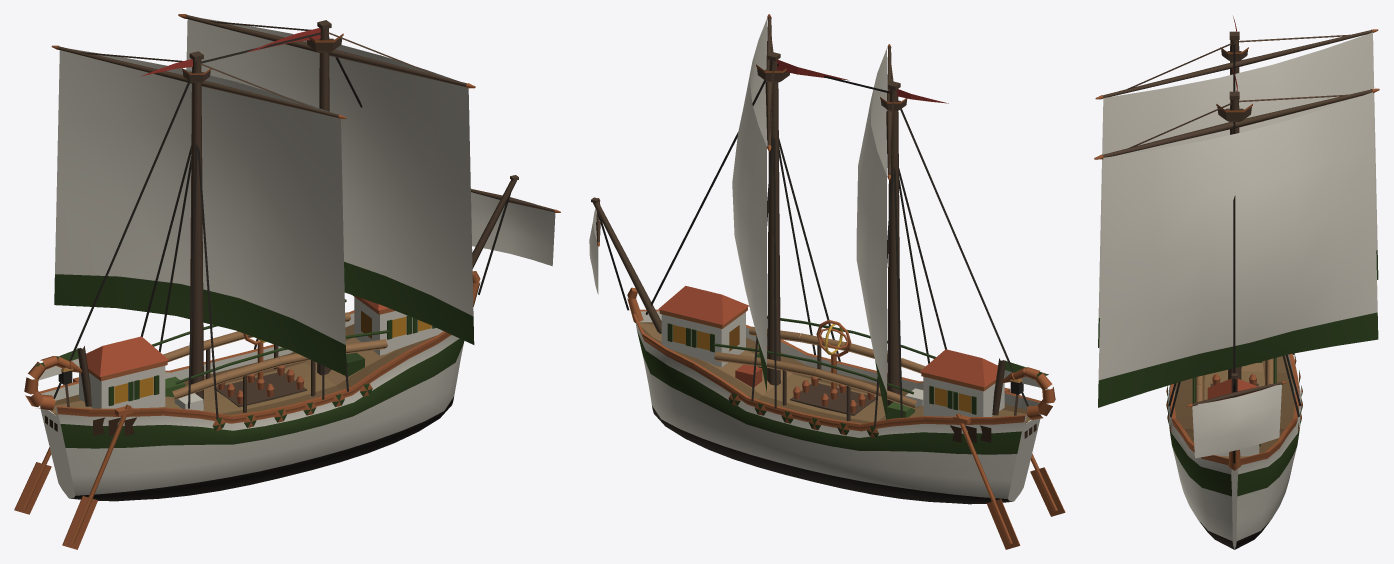
File: titan_usdg.glb
3 views of the same model, side by side, from view 1: azimuth 30°, elevation 25°; view 2: azimuth 150°, elevation 25°; view 3: azimuth 270°, elevation 25° (orthographic). The views are drawn at different scales.
Parts seen in each view (by area): view 1: sail_extra, sail_main, hull, deck, mast, yards, rigging, stern_windows, flag; view 2: hull, deck, mast, sail_main, sail_extra, rigging, stern_windows, yards, flag; view 3: sail_main, sail_extra, hull, yards, deck, mast, rigging.
Part boxes in pixels (x1,y1,x2,y2): sail_extra: (54,49,346,376); sail_main: (186,18,555,344); hull: (24,271,480,501); deck: (14,295,443,549); mast: (77,20,518,406); yards: (51,14,560,212); rigging: (53,32,510,418); stern_windows: (45,311,431,436); flag: (35,28,320,380); hull: (627,287,1055,504); deck: (658,285,1065,549); mast: (591,52,1006,415); sail_main: (589,19,766,392); sail_extra: (856,48,886,421); rigging: (597,64,1028,426); stern_windows: (673,325,1036,442); yards: (596,14,894,246); flag: (777,60,1048,389); sail_main: (1098,92,1378,458); sail_extra: (1098,32,1378,347); hull: (1166,353,1302,549); yards: (1094,29,1379,406); deck: (1192,357,1276,456); mast: (1216,31,1252,450); rigging: (1168,44,1301,463).
Size of the model in its own units: 25.91 by 21.48 by 13.07.
